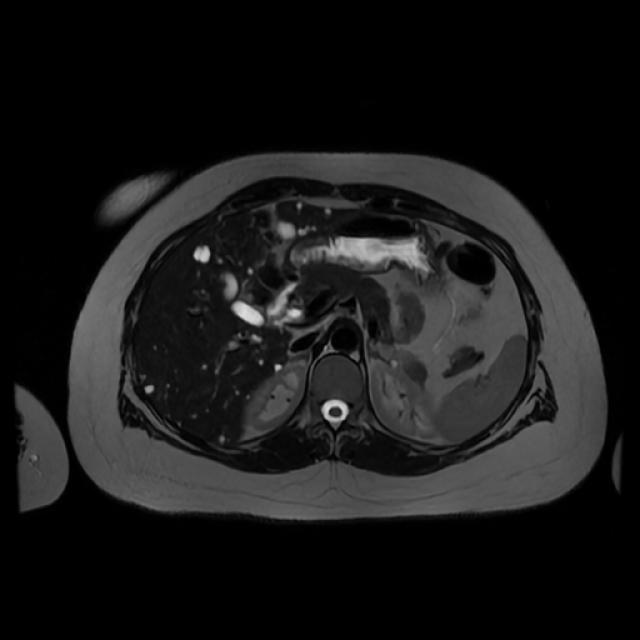sag: (246, 365, 306, 429)
sol: (373, 364, 436, 436)
